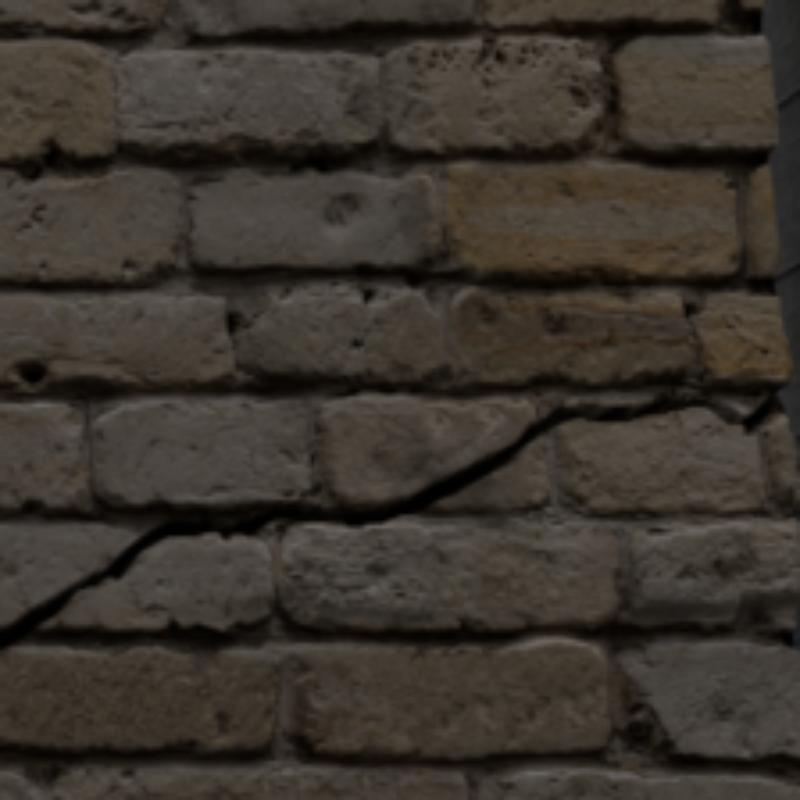pothole: (0, 393, 775, 646)
